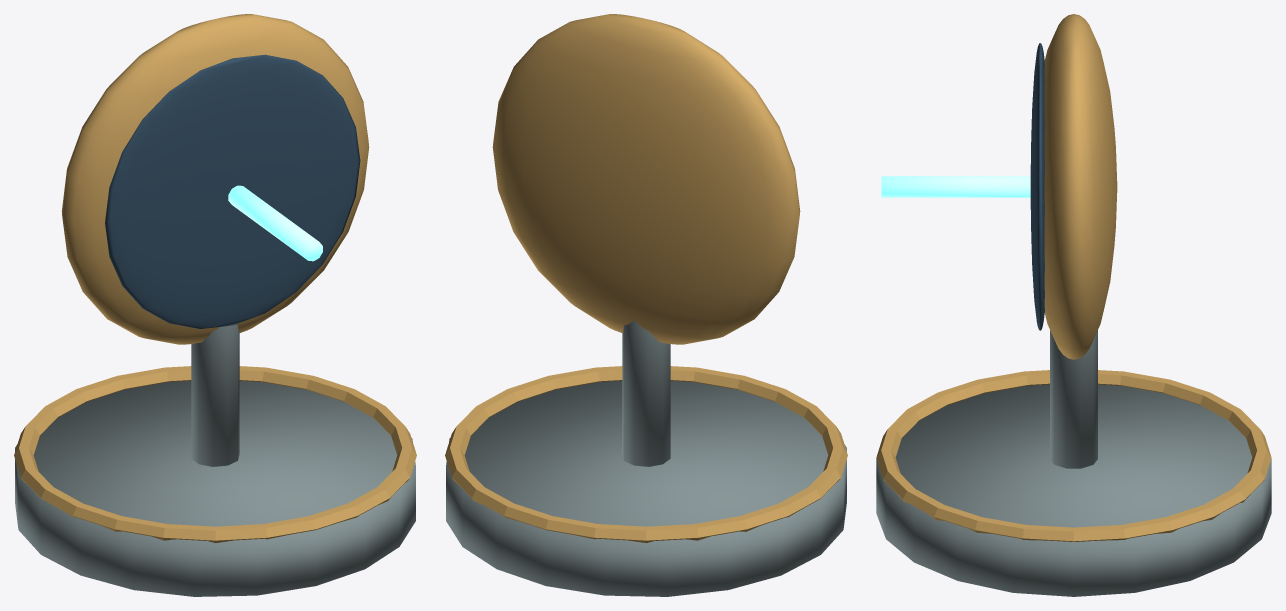
The model's file is module-sonar.glb.
The picture shows the model from 3 angles, left to right: view 1: azimuth 30°, elevation 25°; view 2: azimuth 150°, elevation 25°; view 3: azimuth 270°, elevation 25°; orthographic projection.
Visible parts, largest first — view 1: module-sonar / Iron | weathered steel, module-sonar / Paint | Prussian blue, module-sonar / Brass | machined champagne, module-sonar / Glass | luminous mint; view 2: module-sonar / Brass | machined champagne, module-sonar / Iron | weathered steel; view 3: module-sonar / Iron | weathered steel, module-sonar / Brass | machined champagne, module-sonar / Paint | Prussian blue, module-sonar / Glass | luminous mint.
Part boxes in pixels (x1=…): module-sonar / Iron | weathered steel: x1=15, y1=324, x2=415, y2=596; module-sonar / Paint | Prussian blue: x1=105, y1=54, x2=360, y2=328; module-sonar / Brass | machined champagne: x1=14, y1=14, x2=416, y2=542; module-sonar / Glass | luminous mint: x1=228, y1=185, x2=322, y2=261; module-sonar / Brass | machined champagne: x1=445, y1=14, x2=847, y2=542; module-sonar / Iron | weathered steel: x1=446, y1=320, x2=846, y2=596; module-sonar / Iron | weathered steel: x1=876, y1=330, x2=1271, y2=596; module-sonar / Brass | machined champagne: x1=876, y1=14, x2=1271, y2=541; module-sonar / Paint | Prussian blue: x1=1030, y1=43, x2=1044, y2=330; module-sonar / Glass | luminous mint: x1=881, y1=176, x2=1030, y2=197.
Bounding box in the file's own units: 1.64 × 2.22 × 1.64.
